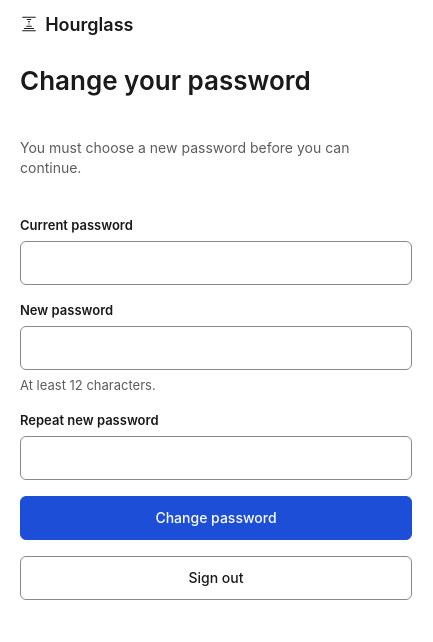
Test: AUTH-7 change-password screen › shows a server validation error on the right field
Type "old" into the password field labelled "Current password" at x=216, y=263, box left=20, top=241, right=412, bottom=285
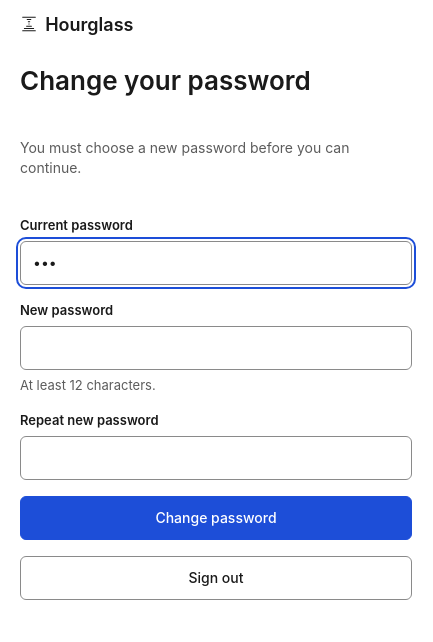
Type "a-long-enough-pw" into the password field labelled "New password" at x=216, y=348, box left=20, top=326, right=412, bottom=370
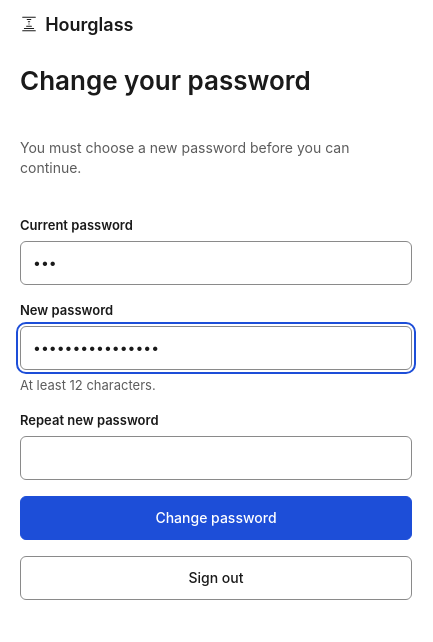
Type "a-long-enough-pw" into the password field labelled "Repeat new password" at x=216, y=458, box left=20, top=436, right=412, bottom=480
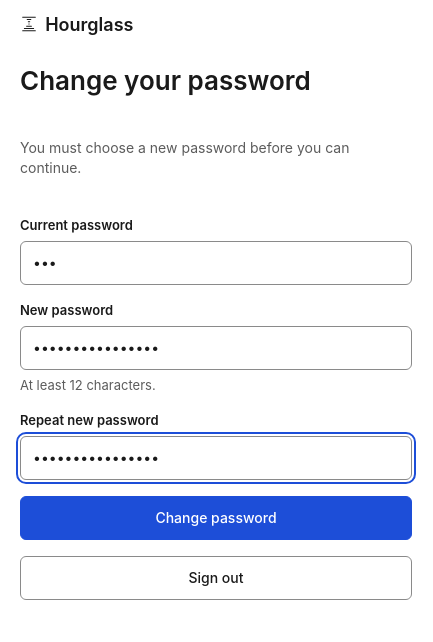
Click the button "Change password" at x=216, y=518, box left=20, top=496, right=412, bottom=540
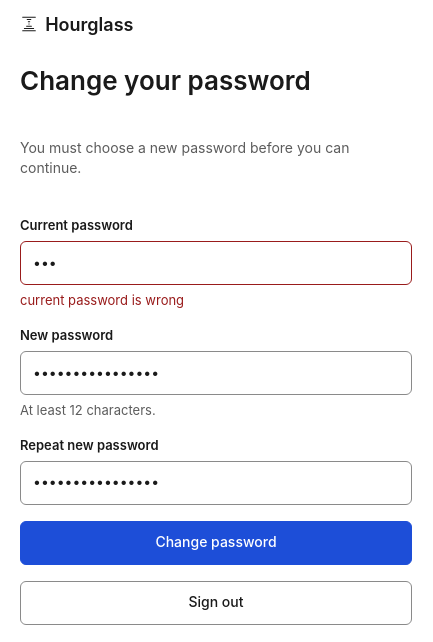
Expected: the text "current password is wrong" is shown, left=20, top=292, right=184, bottom=308
